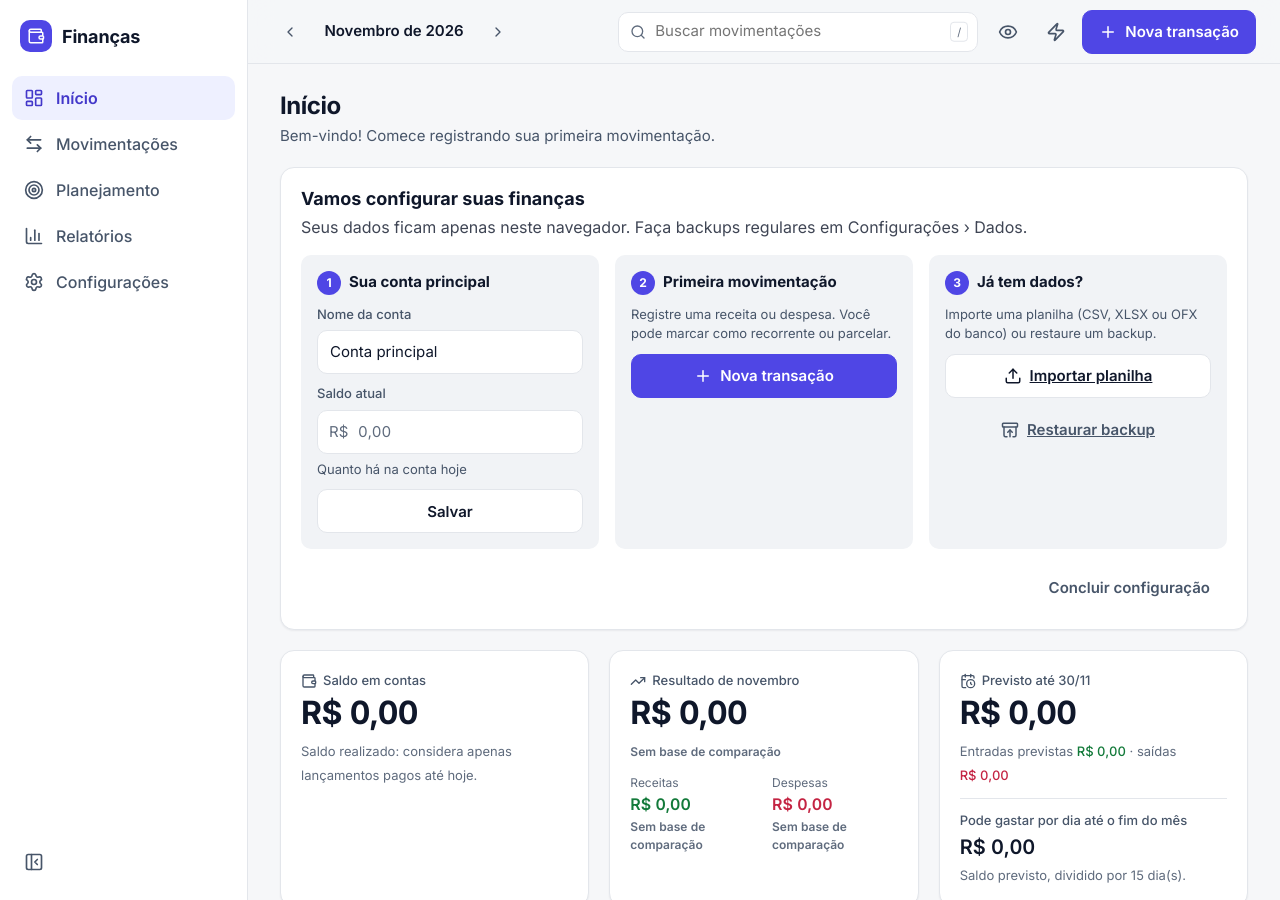
Test case: aplicação › não salva com campos inválidos e mostra os erros
The image size is (1280, 900).
Expected: the heading "Início" is shown, [280,91,341,120]
Click the 1st button "Nova transação": (1169,32) [1082,10,1256,54]
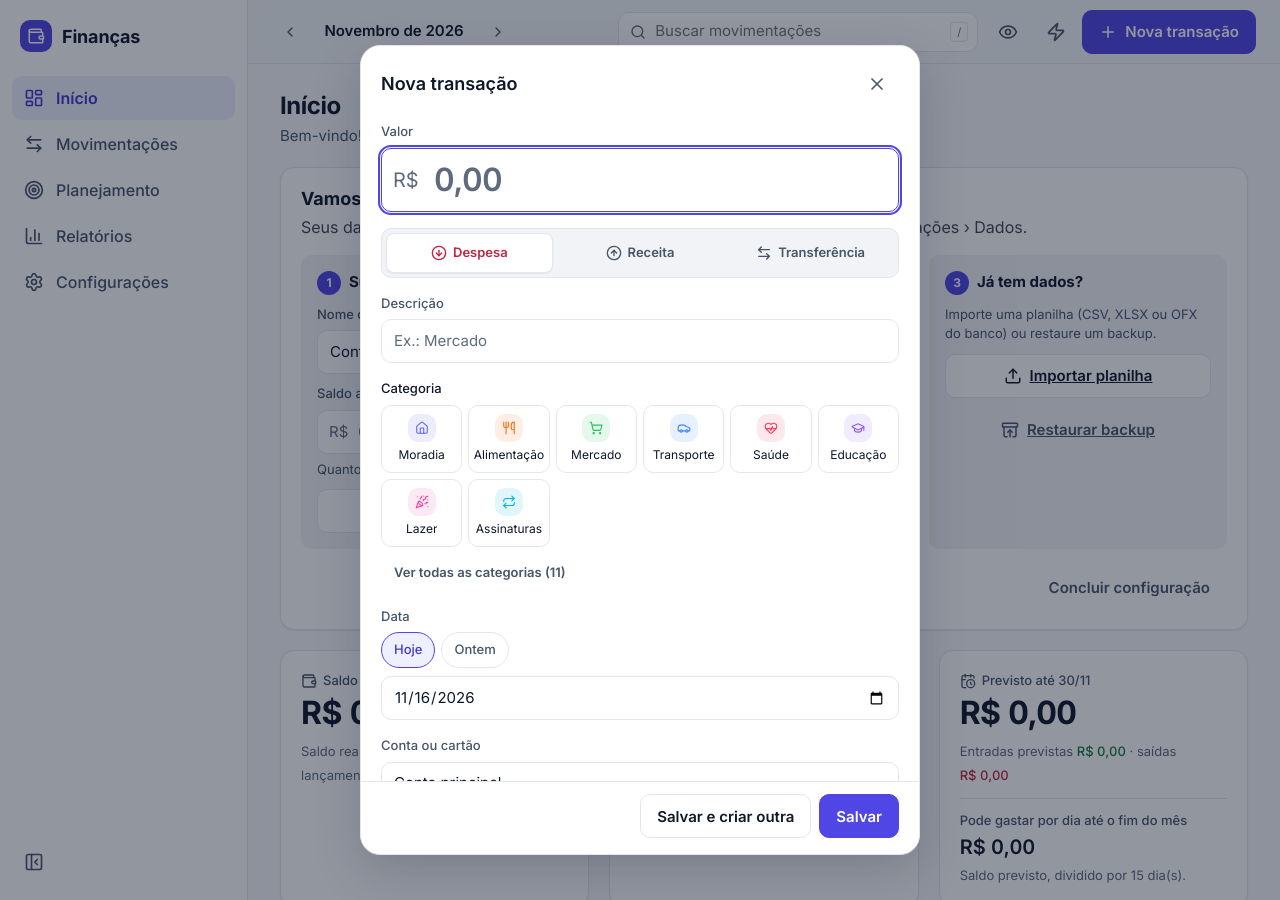
Click the button "Salvar": (859,816) [819,794,899,838]
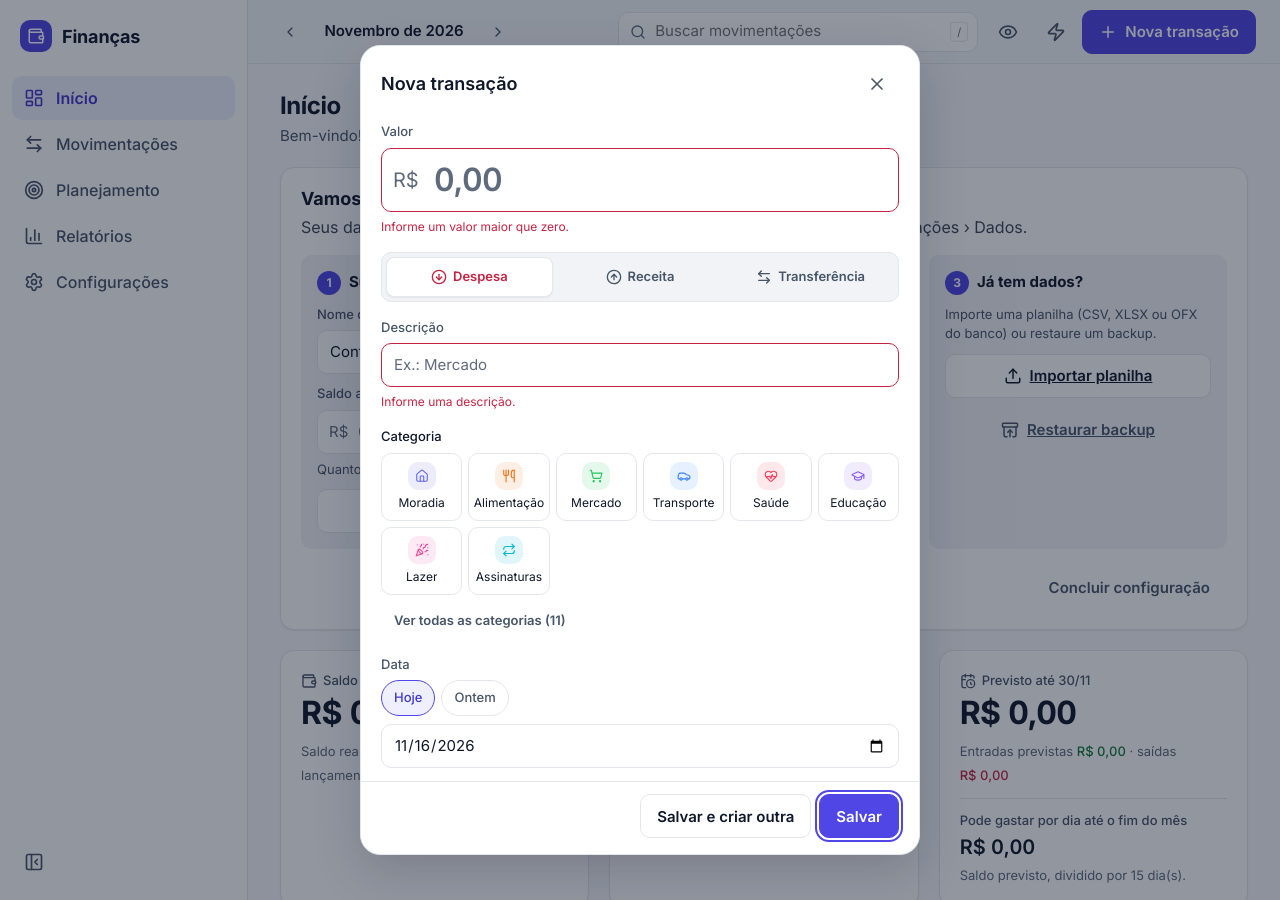
Expected: the text "Informe um valor maior que zero." is shown, [381,218,569,234]
Expected: the text "Informe uma descrição." is shown, [381,394,515,409]
